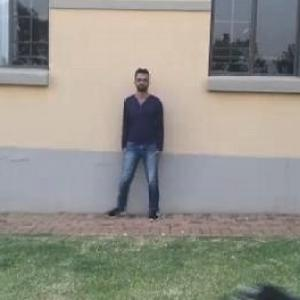follow: (119, 66, 166, 223)
